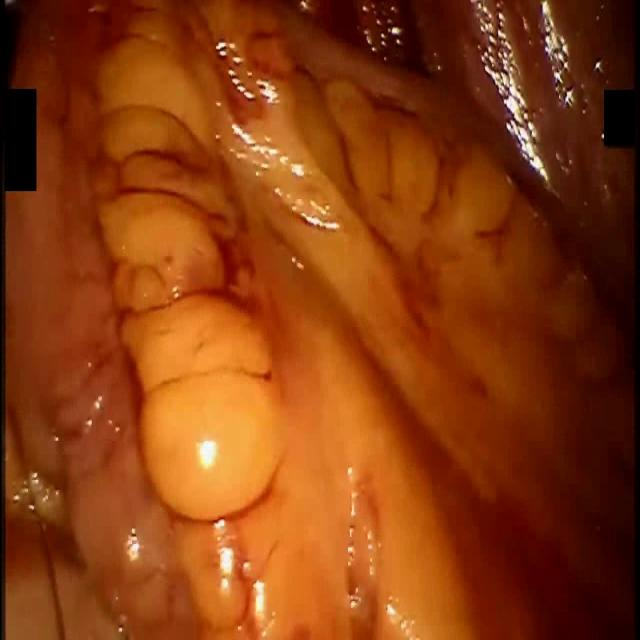surgical-area: (1, 3, 640, 639)
